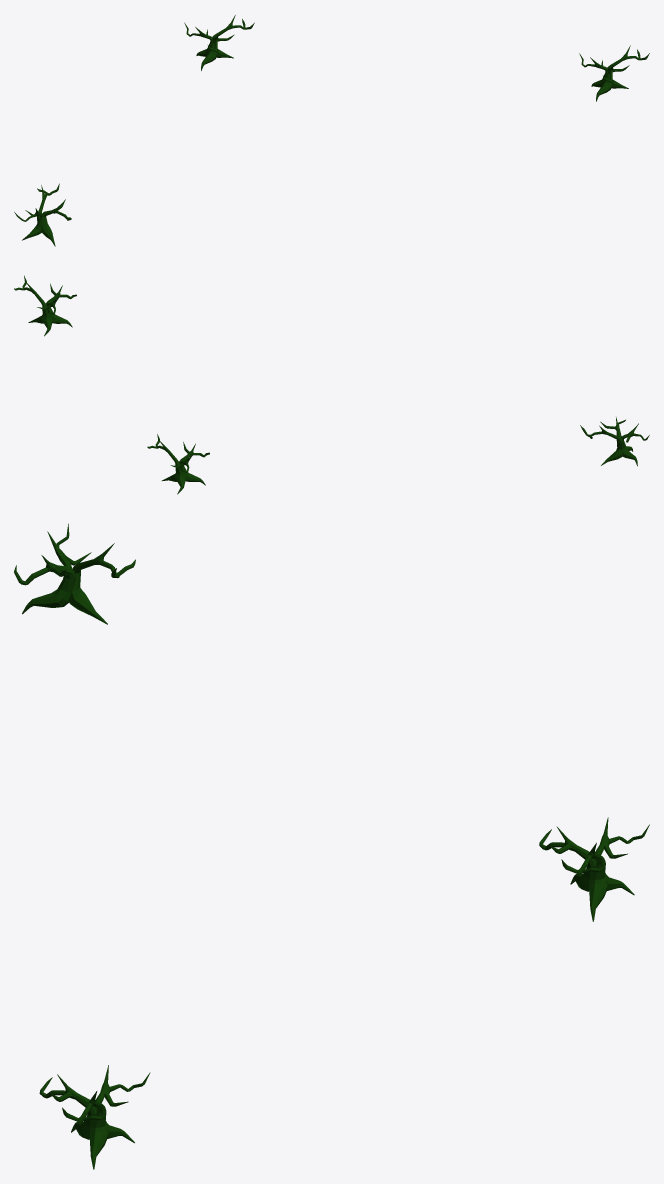
File: Tree_2_Dead.glb
3 renders of one model, top to bottom at view 1: azimuth 30°, elevation 25°; view 2: azimuth 150°, elevation 25°; view 3: azimuth 270°, elevation 25°, orthographic. The views are drawn at different scales.
Parts seen in each view (by area): view 1: Tree_2_Dead.004; view 2: Tree_2_Dead.004; view 3: Tree_2_Dead.004.
Boxes of the visible parts, x1,y1,x2,y2 form: Tree_2_Dead.004: [14, 15, 649, 246]; Tree_2_Dead.004: [14, 275, 649, 494]; Tree_2_Dead.004: [14, 523, 649, 1169].
Size of the model in its own units: 84.19 by 5.41 by 38.1.
